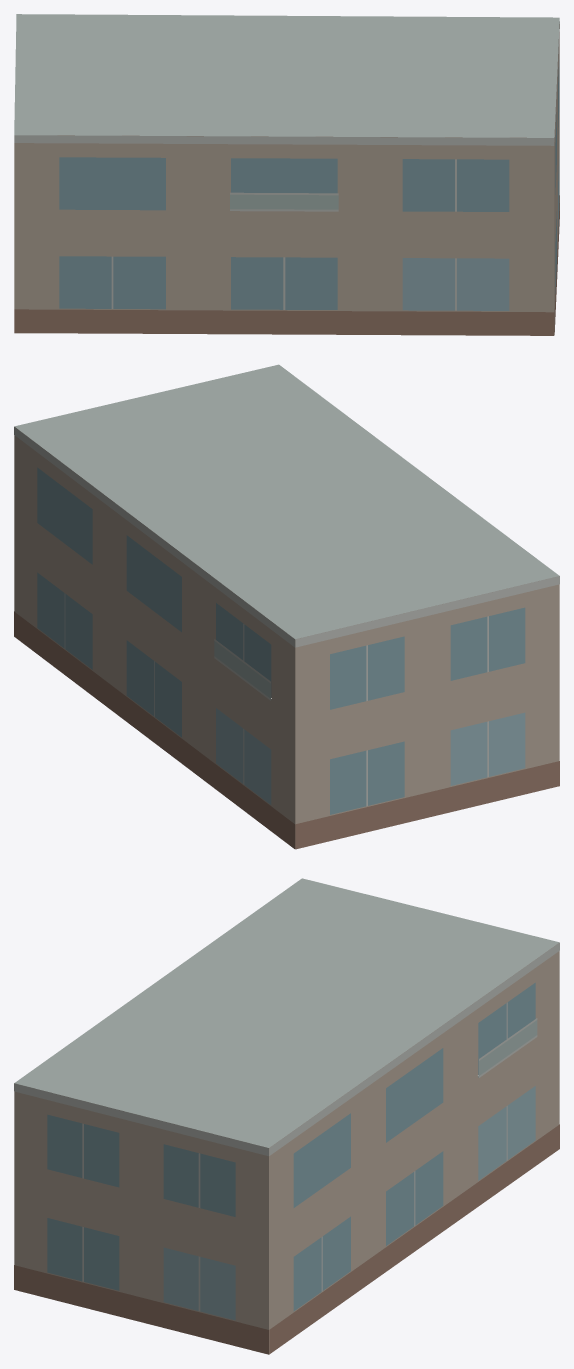
The model's file is survey-upis-32706614.glb.
3 views of the same model, one above another, from view 1: azimuth 30°, elevation 25°; view 2: azimuth 150°, elevation 25°; view 3: azimuth 270°, elevation 25° (orthographic). The views are drawn at different scales.
Parts seen in each view (by area): view 1: survey-upis-32706614.tmp; view 2: survey-upis-32706614.tmp; view 3: survey-upis-32706614.tmp.
Boxes of the visible parts, box(x1,y1,x2,y2) form: survey-upis-32706614.tmp: box(14, 14, 559, 335); survey-upis-32706614.tmp: box(14, 364, 559, 849); survey-upis-32706614.tmp: box(14, 878, 559, 1354).
Bounding box in the file's own units: 17.1 × 6.1 × 14.61.
